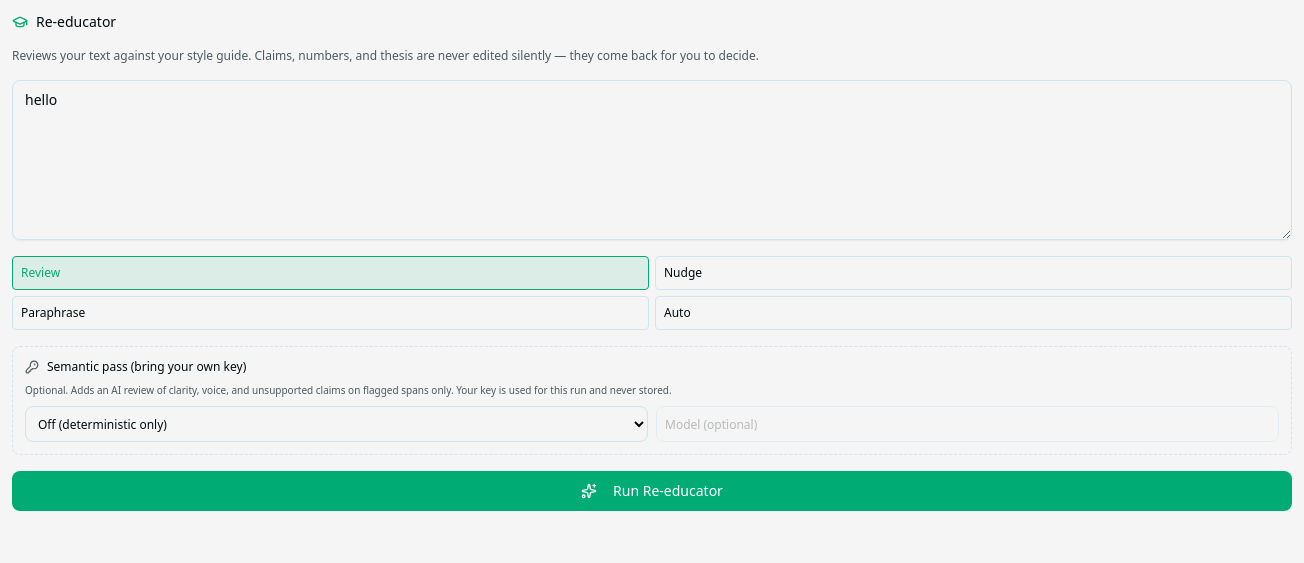
ReEducatorPanel › surfaces a 400 with the server error message
Click the button "Run Re-educator" at (652, 491), box [12,471,1292,511]
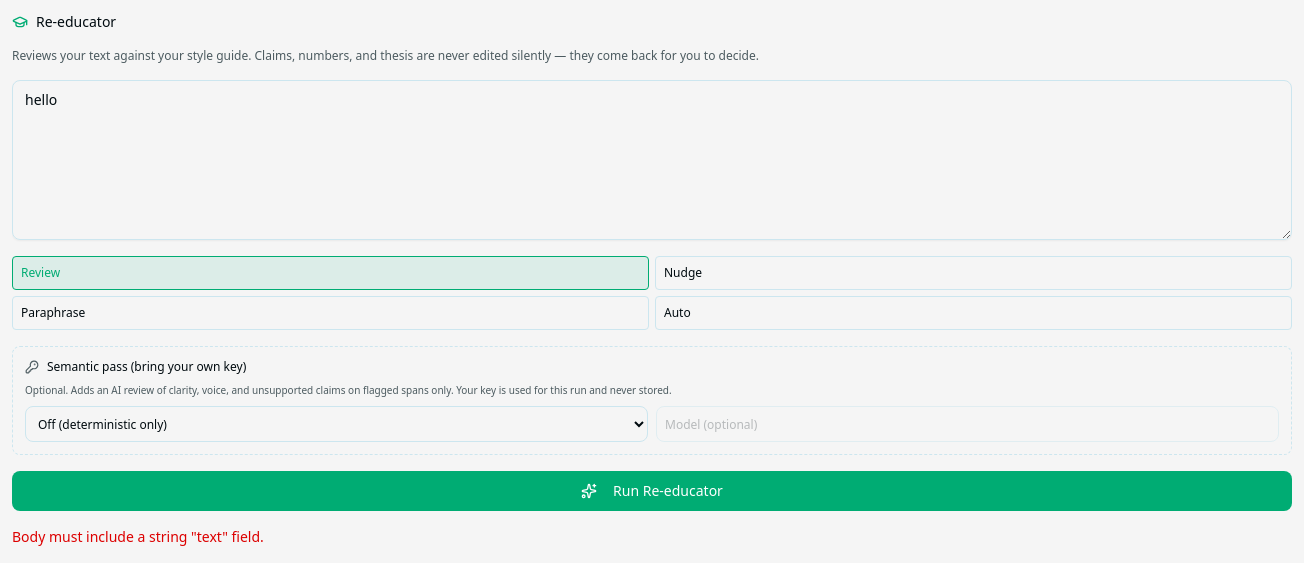
Now the text "Body must include a string \"text\" field." is shown, box [12,527,264,546]
